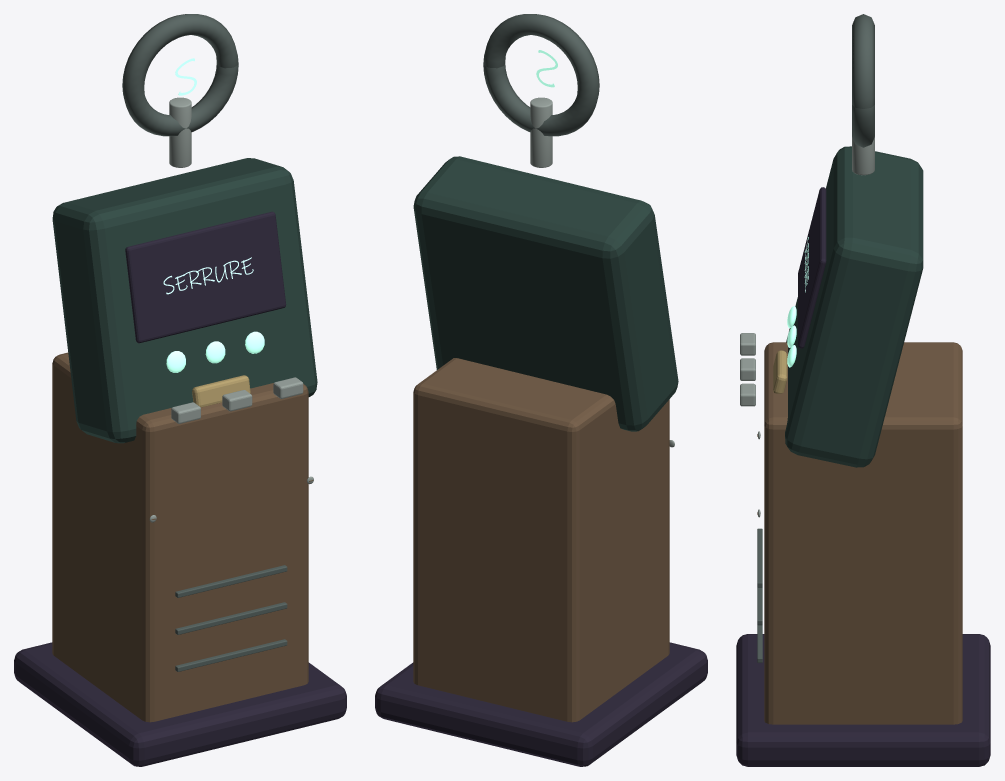
Rendered from terminal_lock.glb.
3 renders of one model, left to right at view 1: azimuth 30°, elevation 25°; view 2: azimuth 150°, elevation 25°; view 3: azimuth 270°, elevation 25°, orthographic.
Parts seen in each view (by area): view 1: Walnut_pedestal, Teal_panel, Foot, Screen, Badge, Badge_stem, Button, Pedestal_vent, Pedestal_vent.001, Pedestal_vent.002, Flat_title; view 2: Walnut_pedestal, Teal_panel, Foot, Badge, Badge_stem; view 3: Walnut_pedestal, Teal_panel, Foot, Badge, Screen, Badge_stem, Button.
Part boxes in pixels (x1,y1,x2,y2): Walnut_pedestal: (52,352,308,722); Teal_panel: (52,158,317,443); Foot: (14,642,346,766); Screen: (125,211,286,343); Badge: (122,14,238,136); Badge_stem: (169,97,191,167); Button: (192,375,250,407); Pedestal_vent: (175,639,287,671); Pedestal_vent.001: (175,602,287,634); Pedestal_vent.002: (175,565,287,597); Flat_title: (163,257,253,294); Walnut_pedestal: (413,358,669,722); Teal_panel: (413,156,678,431); Foot: (375,642,707,766); Badge: (483,14,599,136); Badge_stem: (530,97,552,167); Walnut_pedestal: (764,342,962,724); Teal_panel: (785,146,923,467); Foot: (736,634,990,766); Badge: (852,14,874,147); Screen: (798,187,826,348); Badge_stem: (852,137,874,175); Button: (773,350,787,393).
Size of the model in its own units: 0.55 by 1.66 by 0.55.
